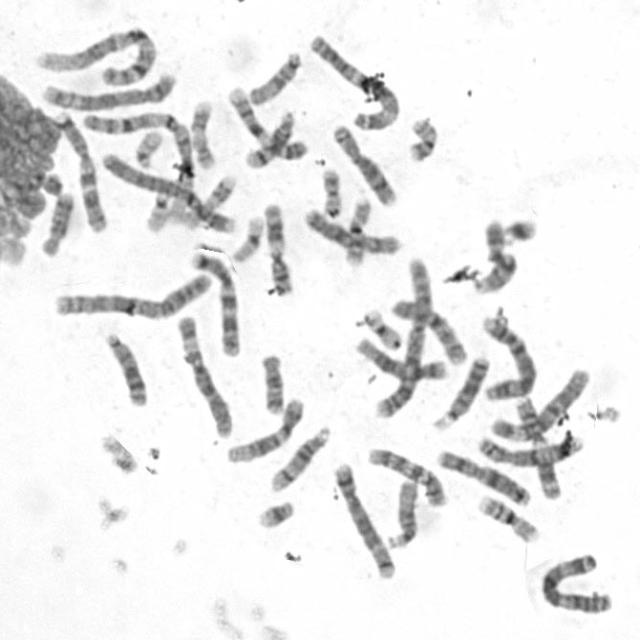A1: (80, 106, 199, 230), (34, 20, 162, 87)
A2: (369, 250, 434, 420), (49, 267, 214, 322)
A3: (305, 27, 401, 132), (535, 547, 616, 615)
B4: (97, 148, 240, 235), (478, 309, 540, 403)
B5: (329, 456, 398, 580), (37, 66, 180, 112)
C10: (387, 292, 470, 366), (363, 441, 450, 508)
C11: (512, 391, 565, 500), (259, 197, 294, 297)
C12: (222, 392, 308, 464), (351, 332, 450, 382)
C6: (486, 362, 593, 443), (173, 309, 236, 440)
C7: (50, 104, 110, 234), (185, 247, 243, 359)
C8: (328, 119, 399, 208), (472, 429, 584, 468)
C9: (224, 80, 310, 161), (469, 216, 516, 296)
D13: (429, 350, 493, 430), (99, 327, 149, 408)
D14: (266, 421, 332, 494), (242, 105, 297, 169)
D15: (243, 45, 304, 106), (383, 474, 421, 550)
E16: (472, 489, 542, 544), (340, 192, 372, 268)
E17: (180, 171, 238, 231), (187, 94, 219, 170)
E18: (36, 188, 76, 258), (256, 347, 288, 416)
F19: (358, 304, 405, 352), (228, 211, 266, 263)
F20: (403, 111, 440, 163), (318, 163, 345, 219)
G21: (252, 494, 297, 530), (498, 212, 540, 247)
G22: (130, 124, 166, 169), (141, 184, 173, 233)
X: (433, 445, 533, 508), (298, 202, 404, 256)
